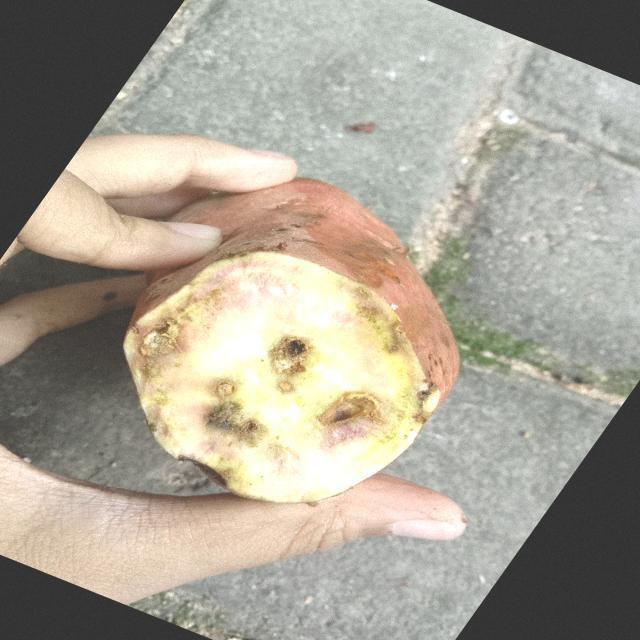Sick Sweet Potato_Tuber Rot: (125, 252, 430, 502)
